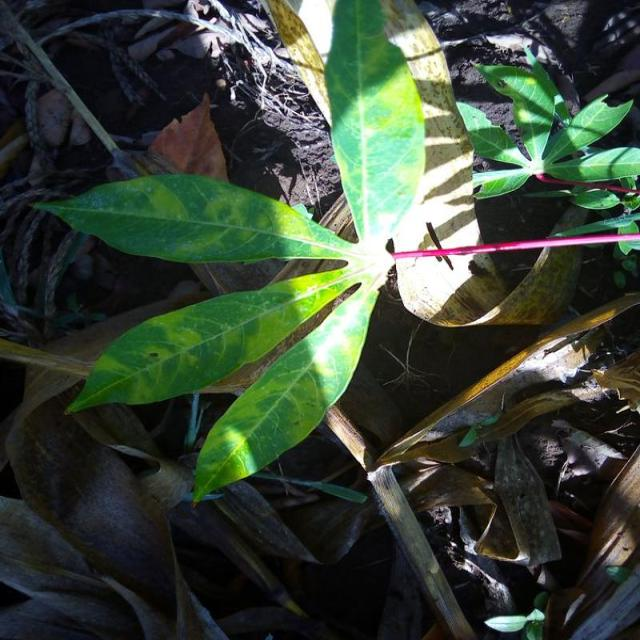cassava leaf: (43, 0, 594, 506), (29, 170, 358, 266)
